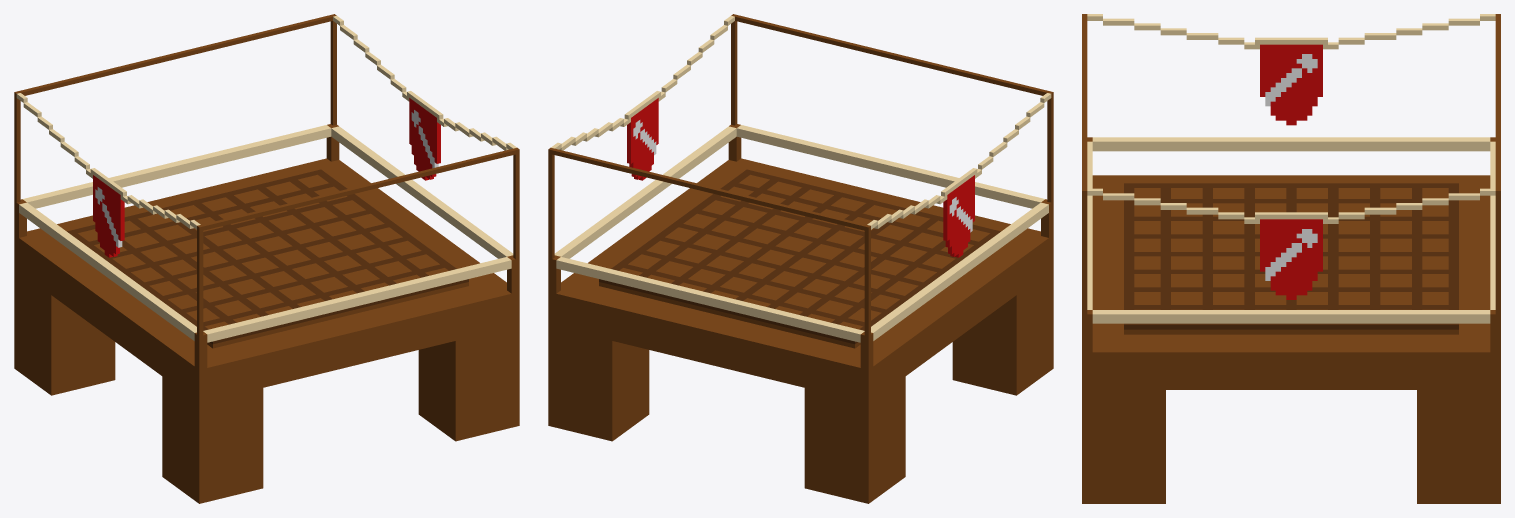
The model's file is board.obj.
3 views of the same model, side by side, from view 1: azimuth 30°, elevation 25°; view 2: azimuth 150°, elevation 25°; view 3: azimuth 270°, elevation 25° (orthographic). The views are drawn at different scales.
Parts seen in each view (by area): view 1: board; view 2: board; view 3: board.
Part boxes in pixels (left/top/right/bottom): board: left=14, top=14, right=519, bottom=503; board: left=548, top=14, right=1053, bottom=503; board: left=1082, top=14, right=1500, bottom=503.
Size of the model in its own units: 8 by 6.6 by 8.
1 material, 1 textured.
